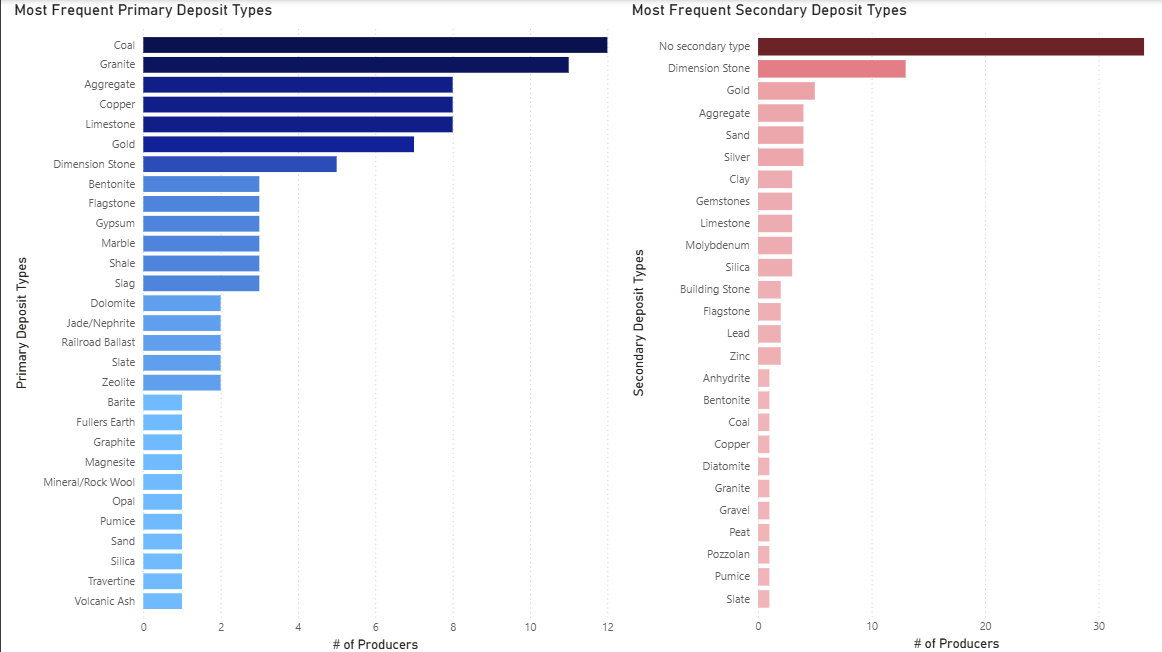

The page's visual inventory and layout, read from the dashboard file:
{"tool":"powerbi","page":{"name":"Frequent Type of  Extracts","canvas":[1280,720],"ordinal":2},"visuals":[{"type":"clusteredBarChart","title":"Most Frequent Primary Deposit Types","fields":{"Category":["MineralOccurrenceData.COMMOD_D1                     "],"Y":["CountNonNull(MineralOccurrenceData.COMMOD_D1                     )"]},"box":[9.6,0,668.3,720.4],"z":0},{"type":"clusteredBarChart","title":"Most Frequent Secondary Deposit Types","fields":{"Category":["MineralOccurrenceData.COMMOD_D2                     "],"Y":["CountNonNull(MineralOccurrenceData.COMMOD_D2                     )"]},"box":[688,0,592,720],"z":1000}]}

Visuals, with their boxes in screenshot pixels (x1, y1, x2, y2), scaled from the page's 1280x720 canvas onto the 1162x652 screenshot:
"Most Frequent Primary Deposit Types" clusteredBarChart: (left=9, top=0, right=615, bottom=651)
"Most Frequent Secondary Deposit Types" clusteredBarChart: (left=625, top=0, right=1161, bottom=651)
